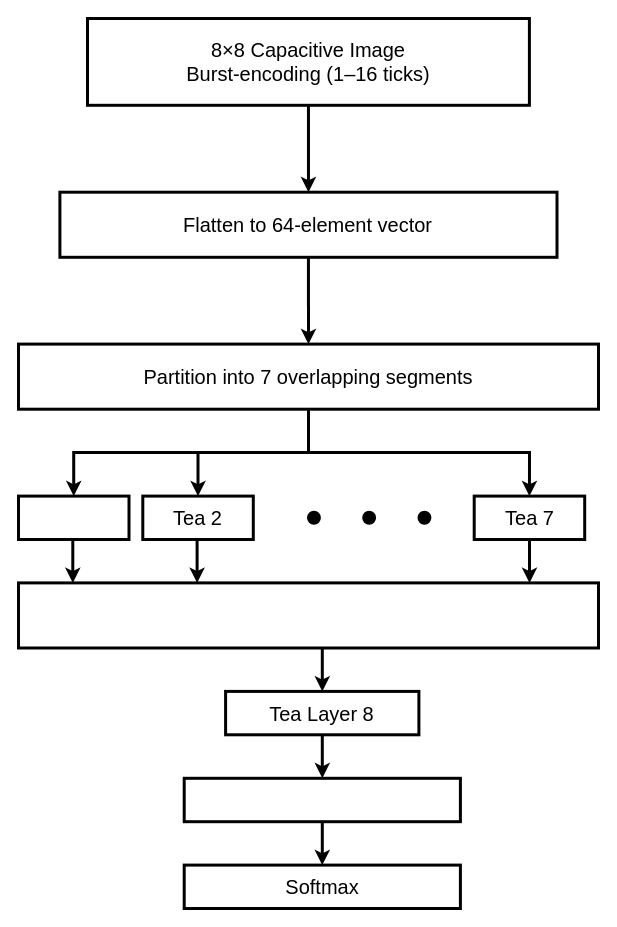
The diagram is 617 pixels wide and 927 high, and some of its shapes have lost their labels. Each missing label, with the box of its shape:
Additive Pooling: (182, 776, 461, 823)
Concatenate Output: (16, 581, 600, 649)
Tea 1: (16, 494, 130, 540)
